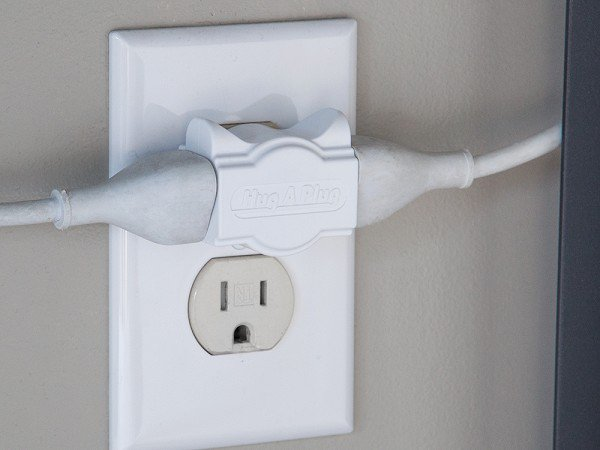outlet: (211, 275, 281, 348)
